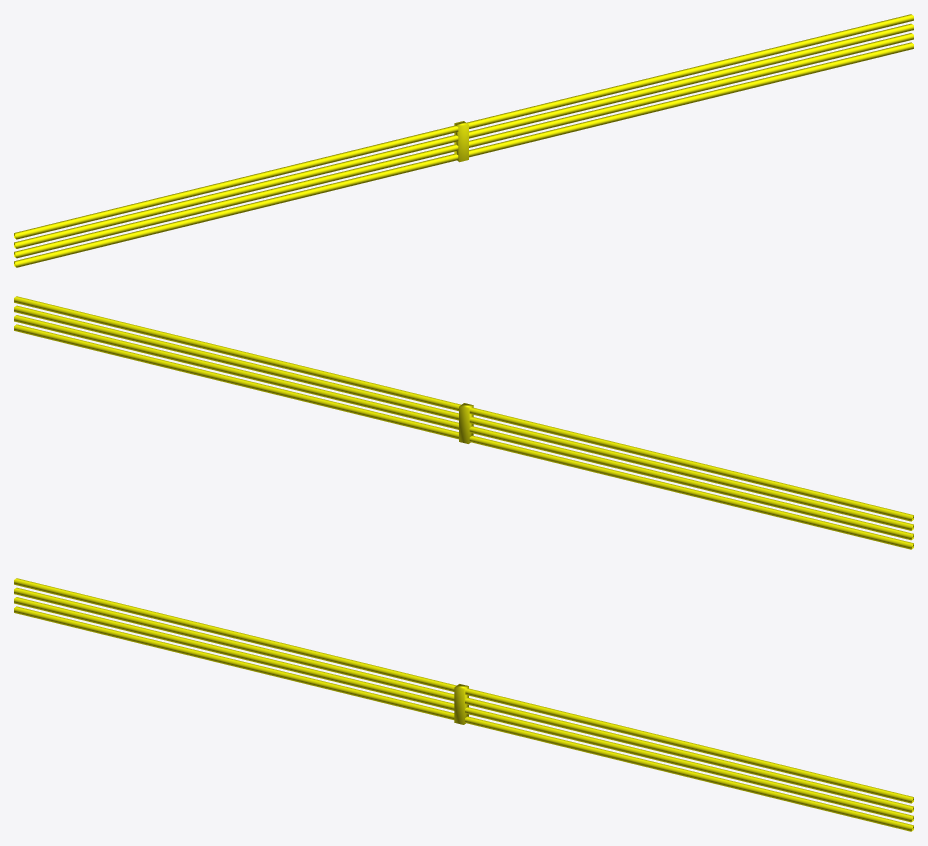
File: rope_yellow.obj
3 renders of one model, top to bottom at view 1: azimuth 30°, elevation 25°; view 2: azimuth 150°, elevation 25°; view 3: azimuth 330°, elevation 25°, orthographic.
Visible parts, largest first — view 1: rope_yellow; view 2: rope_yellow; view 3: rope_yellow.
Boxes of the visible parts, box(x1,y1,x2,y2) form: rope_yellow: box(14, 14, 913, 267); rope_yellow: box(14, 296, 913, 549); rope_yellow: box(14, 578, 913, 831).
Size of the model in its own units: 1 by 0.0375 by 0.01.
